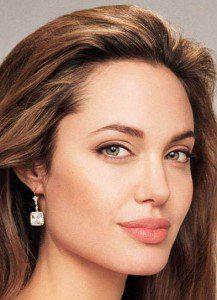Sober: (57, 61, 190, 268)
